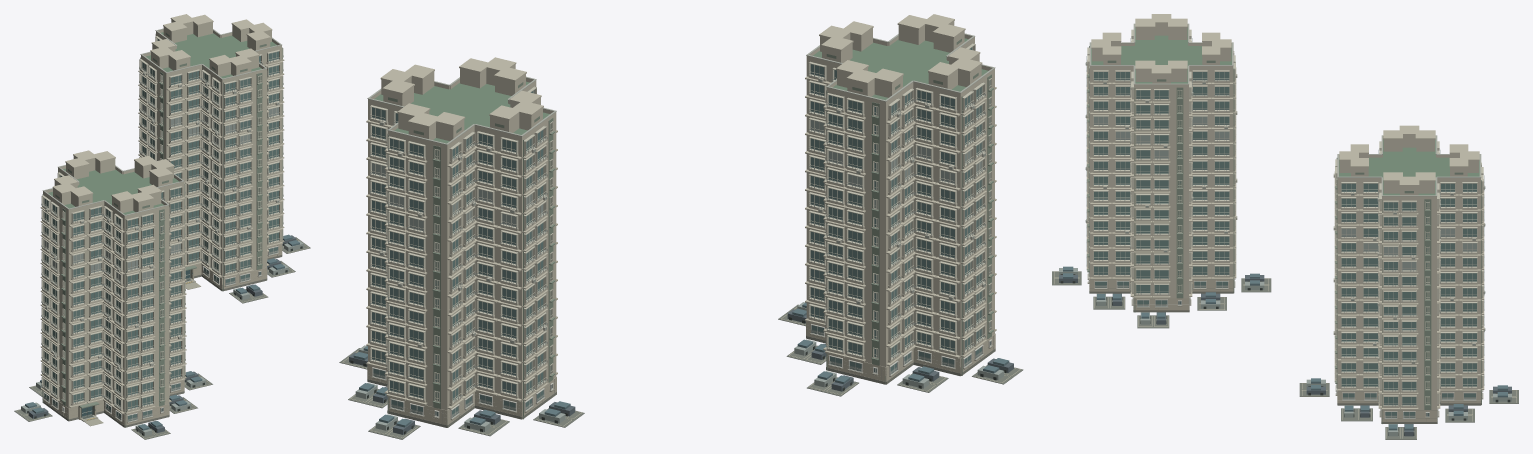
File: old-3.glb
3 views of the same model, side by side, from view 1: azimuth 30°, elevation 25°; view 2: azimuth 150°, elevation 25°; view 3: azimuth 270°, elevation 25° (orthographic). The views are drawn at different scales.
Parts seen in each view (by area): view 1: korean-facade-parts-d1d0bf, korean-facade-parts-cac6b4, korean-facade-surface-718b87, korean-facade-surface-cac6b4, korean-facade-parts-8c9b8b, korean-facade-parts-8f9b97, old-3, korean-facade-parts-c5c0ae, korean-facade-surface-9eaaa4, korean-facade-parts-858b82, korean-facade-parts-b8bcb2, korean-facade-parts-6c858b (+5 smaller); view 2: korean-facade-parts-d1d0bf, korean-facade-parts-cac6b4, korean-facade-surface-718b87, korean-facade-surface-cac6b4, korean-facade-parts-8c9b8b, old-3, korean-facade-parts-8f9b97, korean-facade-parts-c5c0ae, korean-facade-parts-858b82, korean-facade-surface-9eaaa4, korean-facade-parts-6c858b, korean-facade-parts-a5b1ab (+6 smaller); view 3: korean-facade-parts-cac6b4, korean-facade-parts-d1d0bf, korean-facade-surface-718b87, korean-facade-surface-cac6b4, korean-facade-parts-8c9b8b, old-3, korean-facade-parts-8f9b97, korean-facade-parts-858b82, korean-facade-parts-c5c0ae, korean-facade-surface-9eaaa4, korean-facade-parts-6c858b, korean-facade-parts-b8bcb2 (+6 smaller).
Part boxes in pixels (x1=…): korean-facade-parts-d1d0bf: x1=41, y1=36, x2=283, y2=410; korean-facade-parts-cac6b4: x1=40, y1=14, x2=284, y2=414; korean-facade-surface-718b87: x1=43, y1=39, x2=278, y2=419; korean-facade-surface-cac6b4: x1=43, y1=34, x2=281, y2=414; korean-facade-parts-8c9b8b: x1=42, y1=47, x2=282, y2=427; korean-facade-parts-8f9b97: x1=41, y1=55, x2=283, y2=410; old-3: x1=48, y1=32, x2=276, y2=284; korean-facade-parts-c5c0ae: x1=43, y1=244, x2=282, y2=425; korean-facade-surface-9eaaa4: x1=43, y1=104, x2=278, y2=288; korean-facade-parts-858b82: x1=14, y1=237, x2=310, y2=439; korean-facade-parts-b8bcb2: x1=42, y1=28, x2=281, y2=215; korean-facade-parts-6c858b: x1=25, y1=234, x2=299, y2=430; korean-facade-parts-d1d0bf: x1=370, y1=43, x2=991, y2=403; korean-facade-parts-cac6b4: x1=366, y1=14, x2=996, y2=409; korean-facade-surface-718b87: x1=372, y1=47, x2=990, y2=414; korean-facade-surface-cac6b4: x1=368, y1=40, x2=994, y2=410; korean-facade-parts-8c9b8b: x1=388, y1=74, x2=993, y2=427; old-3: x1=374, y1=38, x2=994, y2=418; korean-facade-parts-8f9b97: x1=370, y1=73, x2=985, y2=402; korean-facade-parts-c5c0ae: x1=367, y1=321, x2=995, y2=425; korean-facade-parts-858b82: x1=339, y1=304, x2=1023, y2=439; korean-facade-surface-9eaaa4: x1=372, y1=120, x2=990, y2=251; korean-facade-parts-6c858b: x1=353, y1=302, x2=1009, y2=427; korean-facade-parts-a5b1ab: x1=355, y1=302, x2=1004, y2=431; korean-facade-parts-cac6b4: x1=1086, y1=14, x2=1484, y2=409; korean-facade-parts-d1d0bf: x1=1087, y1=29, x2=1483, y2=406; korean-facade-surface-718b87: x1=1094, y1=72, x2=1476, y2=417; korean-facade-surface-cac6b4: x1=1090, y1=69, x2=1480, y2=409; korean-facade-parts-8c9b8b: x1=1087, y1=46, x2=1481, y2=423; old-3: x1=1091, y1=27, x2=1479, y2=195; korean-facade-parts-8f9b97: x1=1086, y1=38, x2=1484, y2=406; korean-facade-parts-858b82: x1=1052, y1=271, x2=1518, y2=439; korean-facade-parts-c5c0ae: x1=1089, y1=277, x2=1481, y2=421; korean-facade-surface-9eaaa4: x1=1094, y1=116, x2=1476, y2=284; korean-facade-parts-6c858b: x1=1063, y1=266, x2=1507, y2=430; korean-facade-parts-b8bcb2: x1=1089, y1=23, x2=1481, y2=196.
Bounding box in the file's own units: 87.8 × 47.75 × 84.8.
